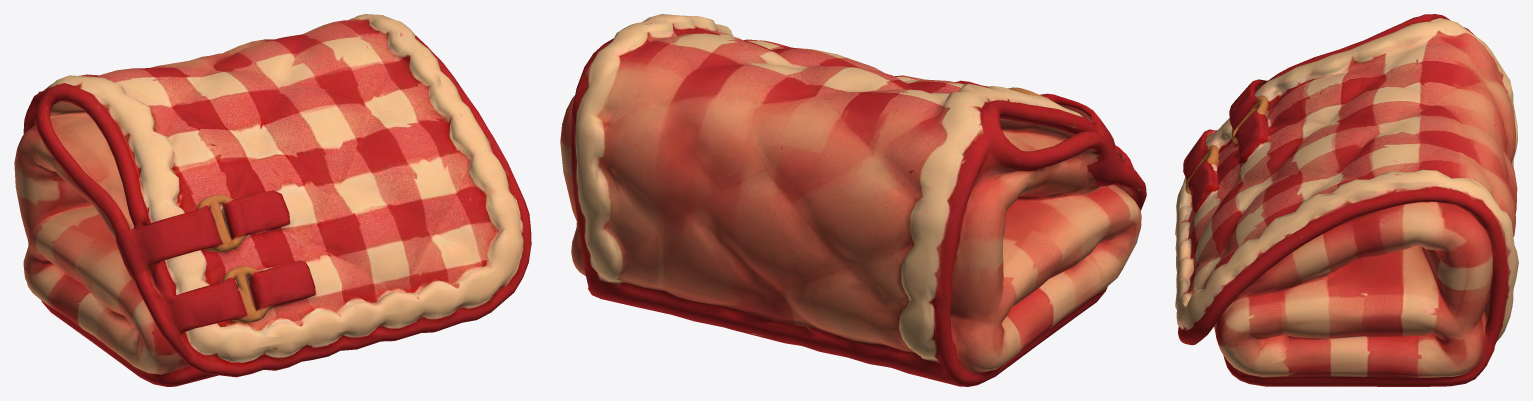
3 views of the same model, side by side, from view 1: azimuth 30°, elevation 25°; view 2: azimuth 150°, elevation 25°; view 3: azimuth 270°, elevation 25° (orthographic). The views are drawn at different scales.
Parts seen in each view (by area): view 1: horse-blanket; view 2: horse-blanket; view 3: horse-blanket.
Boxes of the visible parts, x1=… form: horse-blanket: x1=14, y1=14, x2=531, y2=386; horse-blanket: x1=560, y1=14, x2=1146, y2=386; horse-blanket: x1=1175, y1=14, x2=1518, y2=386.
Size of the model in its own units: 0.8431 by 0.4915 by 0.6874.
Materials: 1 (1 with a texture image).
